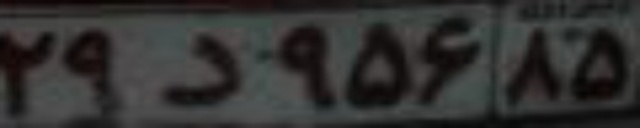2: (0, 27, 54, 117)
5: (343, 21, 411, 107), (572, 27, 630, 102)
6: (417, 16, 481, 104)
8: (502, 25, 561, 103)
9: (62, 27, 124, 116), (272, 23, 336, 106)
dal: (160, 32, 244, 104)
